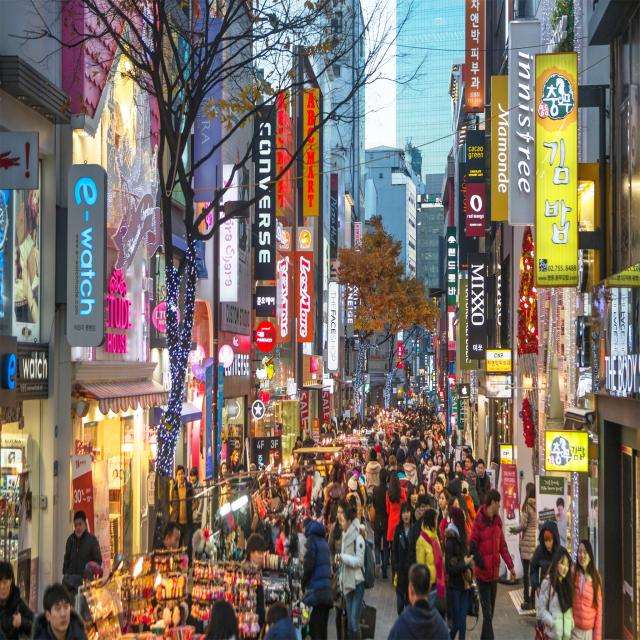body: (468, 487, 517, 639), (333, 502, 377, 640), (386, 561, 452, 640), (444, 506, 481, 640), (298, 516, 336, 640), (11, 194, 42, 324), (193, 601, 299, 639), (536, 544, 576, 640), (168, 464, 200, 576), (509, 482, 537, 609), (415, 508, 446, 622), (326, 499, 351, 640), (30, 581, 88, 640), (570, 537, 603, 640), (392, 501, 419, 617), (241, 531, 268, 640), (304, 451, 348, 517), (529, 519, 565, 599), (62, 510, 103, 580), (384, 467, 408, 585), (0, 560, 35, 639), (4, 449, 32, 529), (372, 467, 391, 580), (389, 400, 443, 436), (322, 468, 347, 538), (280, 491, 301, 564), (438, 494, 460, 556), (353, 465, 371, 537), (414, 494, 432, 564), (189, 465, 205, 534), (461, 454, 482, 506), (436, 487, 451, 556), (365, 448, 382, 506), (345, 472, 363, 524), (152, 520, 181, 551), (461, 480, 476, 533), (475, 458, 491, 506), (218, 475, 238, 511), (465, 469, 481, 513), (350, 407, 380, 429), (396, 463, 412, 502), (218, 462, 231, 508), (553, 494, 566, 540), (451, 471, 464, 517), (81, 560, 107, 582), (245, 462, 262, 494), (406, 483, 419, 524), (228, 450, 241, 490), (429, 476, 444, 510), (405, 428, 421, 459), (403, 455, 418, 486), (302, 428, 316, 461), (420, 438, 432, 476), (426, 465, 439, 499), (584, 497, 598, 528), (416, 452, 429, 484), (106, 465, 126, 485), (449, 429, 458, 471), (422, 454, 435, 482), (591, 295, 605, 319), (424, 429, 435, 458), (417, 478, 432, 499), (236, 463, 247, 491), (378, 433, 387, 467), (399, 434, 409, 463), (374, 444, 385, 469), (258, 459, 268, 486), (292, 446, 301, 475), (429, 440, 444, 457), (291, 435, 303, 456), (220, 426, 241, 438), (390, 432, 402, 451), (146, 423, 158, 442), (433, 449, 446, 466), (387, 454, 398, 474), (444, 460, 455, 480), (324, 423, 336, 441), (460, 448, 469, 470), (396, 448, 406, 467), (437, 434, 446, 455), (436, 467, 446, 485), (124, 420, 133, 439), (467, 447, 477, 464), (435, 454, 445, 470), (367, 431, 377, 447), (358, 440, 364, 464), (329, 418, 336, 438), (331, 420, 338, 439), (386, 468, 393, 486), (318, 427, 326, 442), (405, 431, 411, 451), (415, 445, 423, 460), (388, 443, 398, 455), (432, 428, 440, 441), (440, 423, 446, 440), (169, 476, 176, 490), (455, 460, 463, 472), (465, 428, 470, 446), (338, 414, 343, 431), (346, 423, 352, 435), (344, 416, 350, 427), (358, 389, 361, 406), (459, 447, 463, 458), (347, 417, 351, 425), (454, 417, 458, 425)
